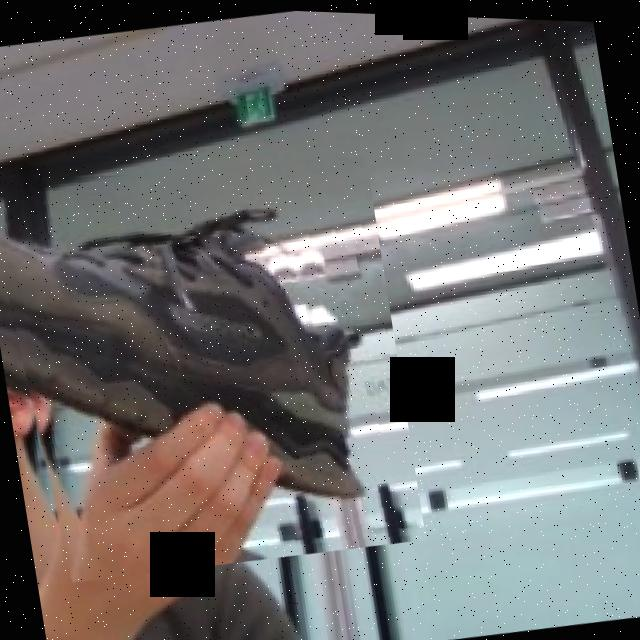shoe: (0, 127, 426, 596)
